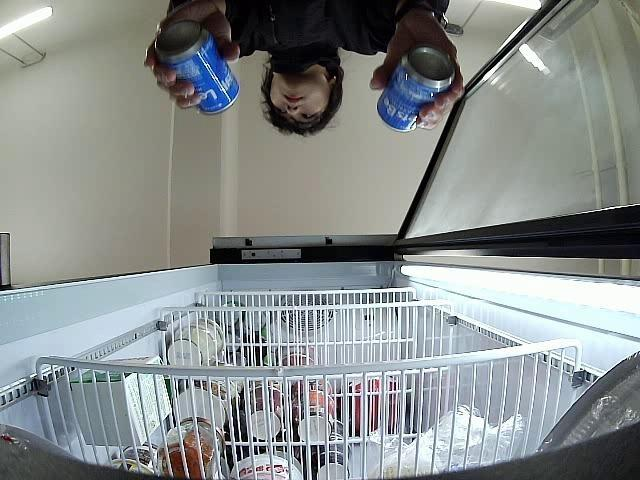15_letsbe: (154, 20, 240, 116), (378, 46, 458, 134)
